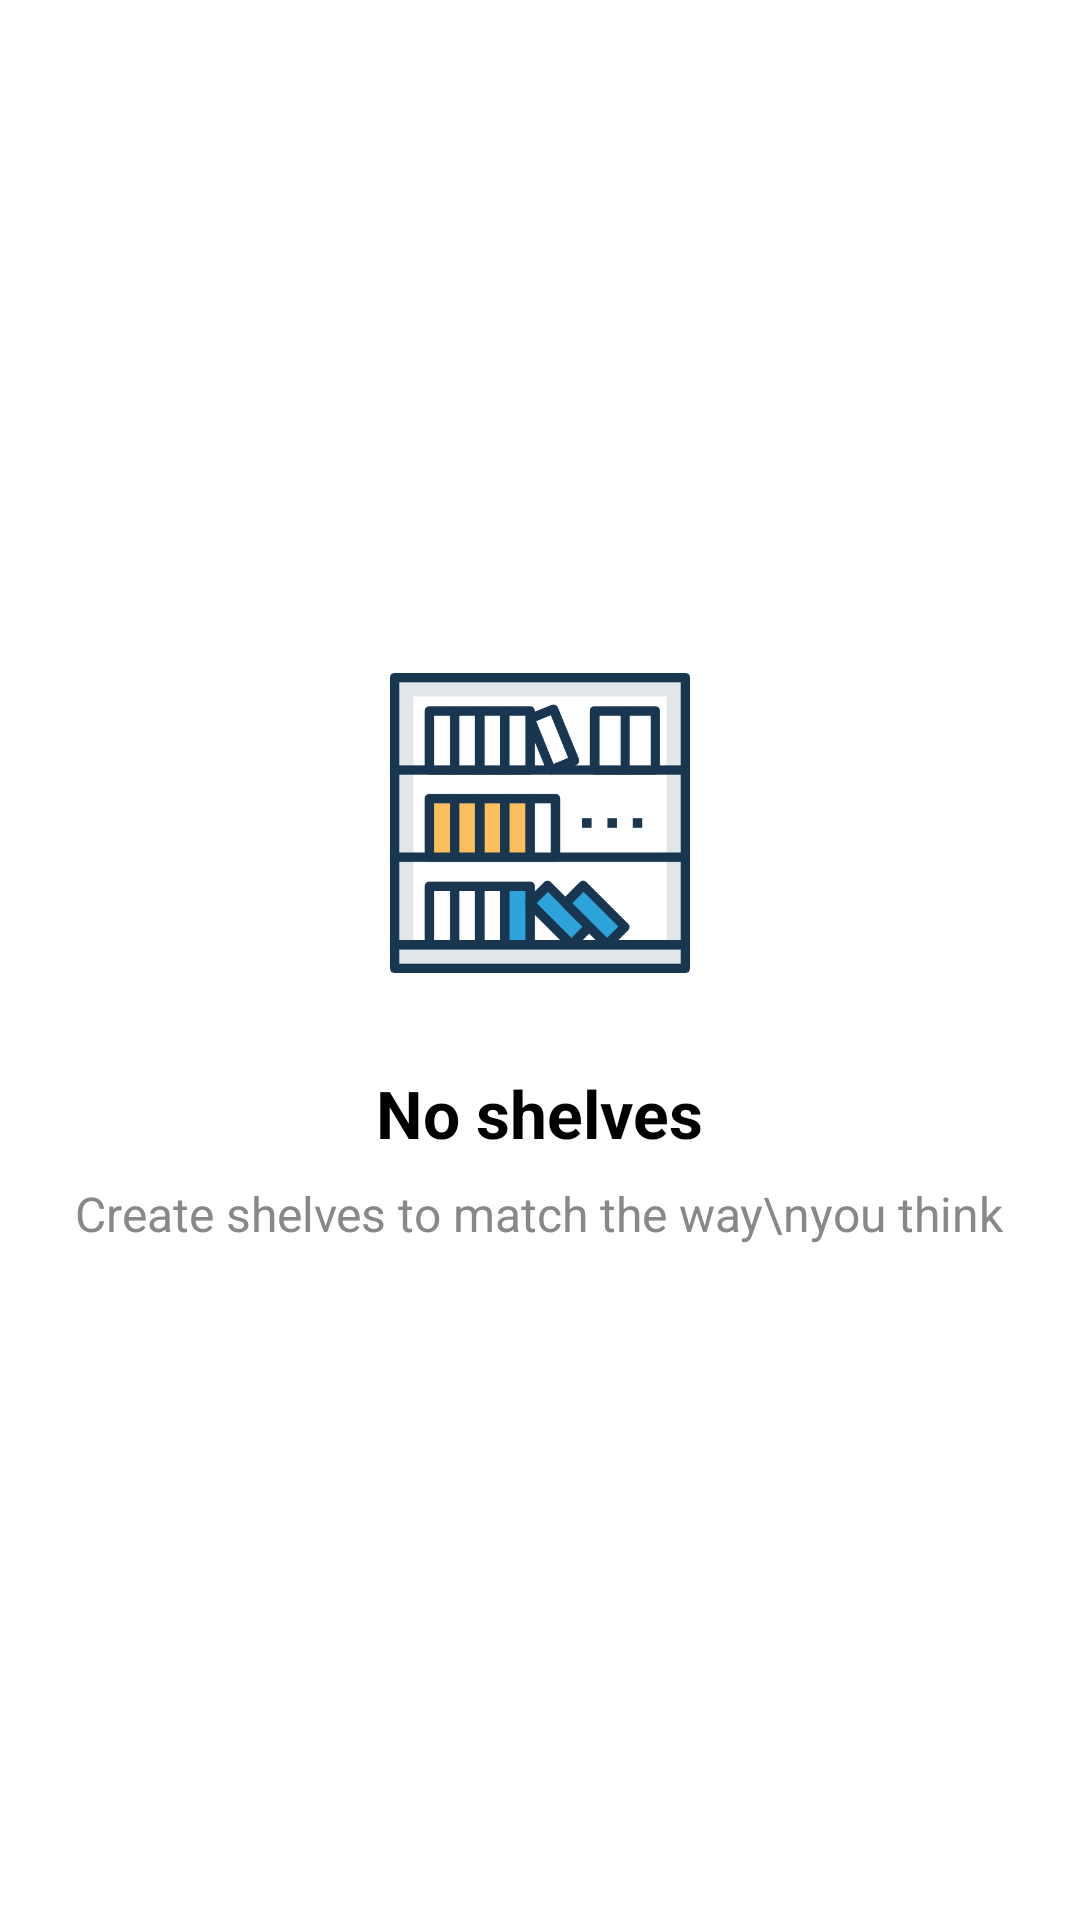

Named icons in this screenshot (1080px×1920px) and their centers, point (x, y):
bookshelf: point (540, 823)
